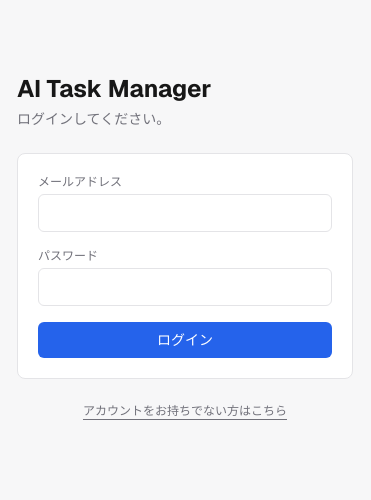
Test: AuthForm › メールアドレスが重複していたらその旨を伝える
Click the button "アカウントをお持ちでない方はこちら" at (185, 411), box [17, 403, 353, 419]
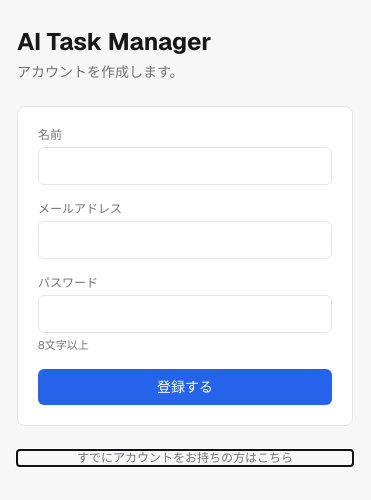
Type "かんた" into the field labelled "名前" at (185, 166), box [38, 147, 332, 185]
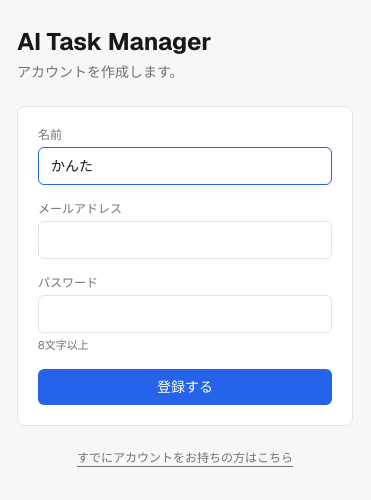
Type "a@example.com" into the field labelled "メールアドレス" at (185, 240), box [38, 221, 332, 259]
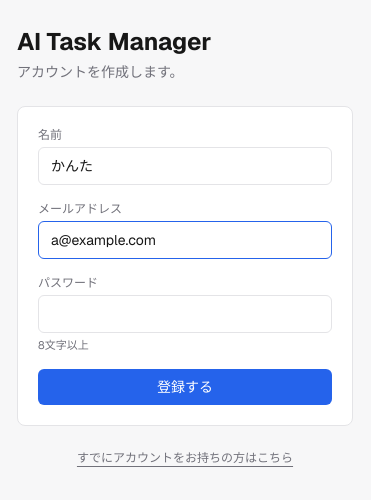
Type "password123" into the password field labelled "パスワード" at (185, 314), box [38, 295, 332, 333]
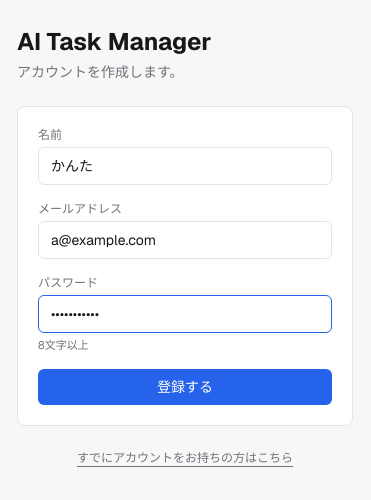
Click the button "登録する" at (185, 387), box [38, 369, 332, 405]
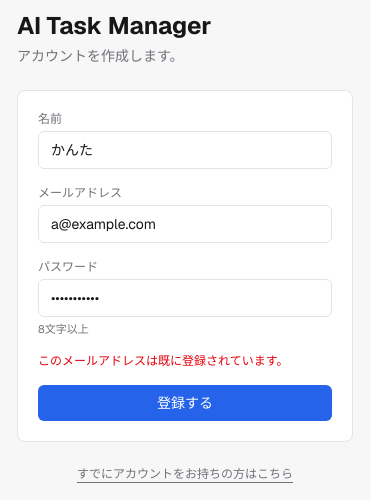
expect the text "このメールアドレスは既に登録されています。" is shown: met, box [38, 353, 332, 369]
